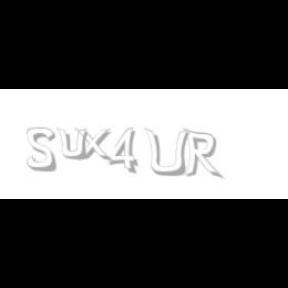4: (107, 128, 138, 174)
R: (183, 128, 221, 180)
S: (26, 128, 58, 172)
U: (144, 128, 188, 178)
u: (56, 128, 92, 160)
x: (74, 128, 116, 162)
